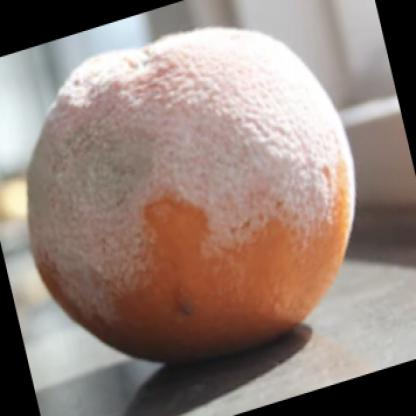rotten_orange: (5, 20, 365, 384)
